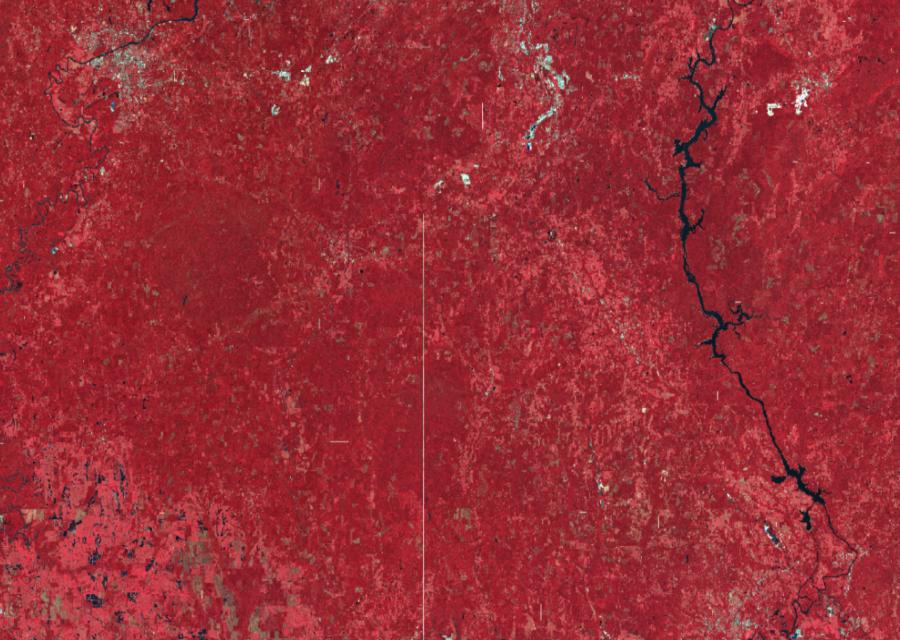Potential Lime Manufacturing Facility: (527, 106, 556, 150), (554, 70, 570, 92), (542, 55, 554, 72)
